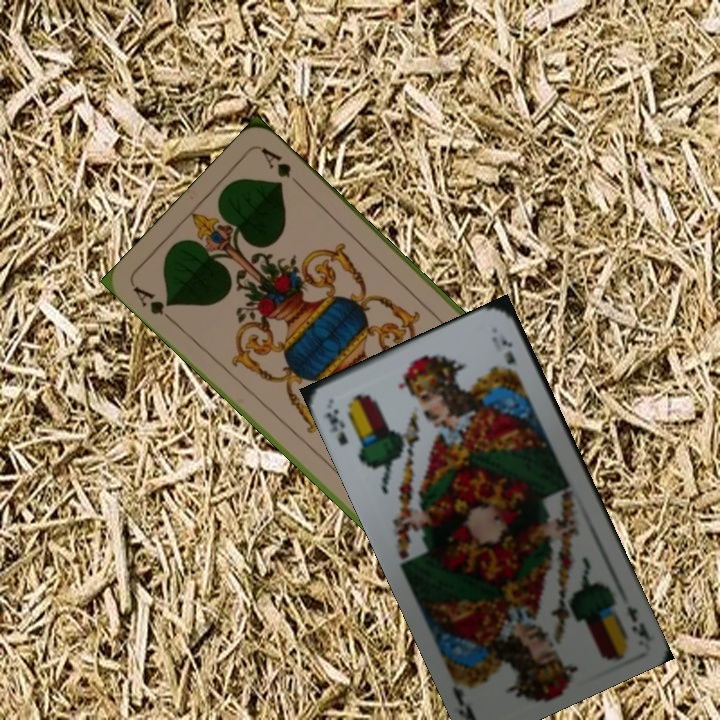EK: (320, 405, 351, 448), (623, 601, 655, 642)
GA: (128, 281, 178, 326)
